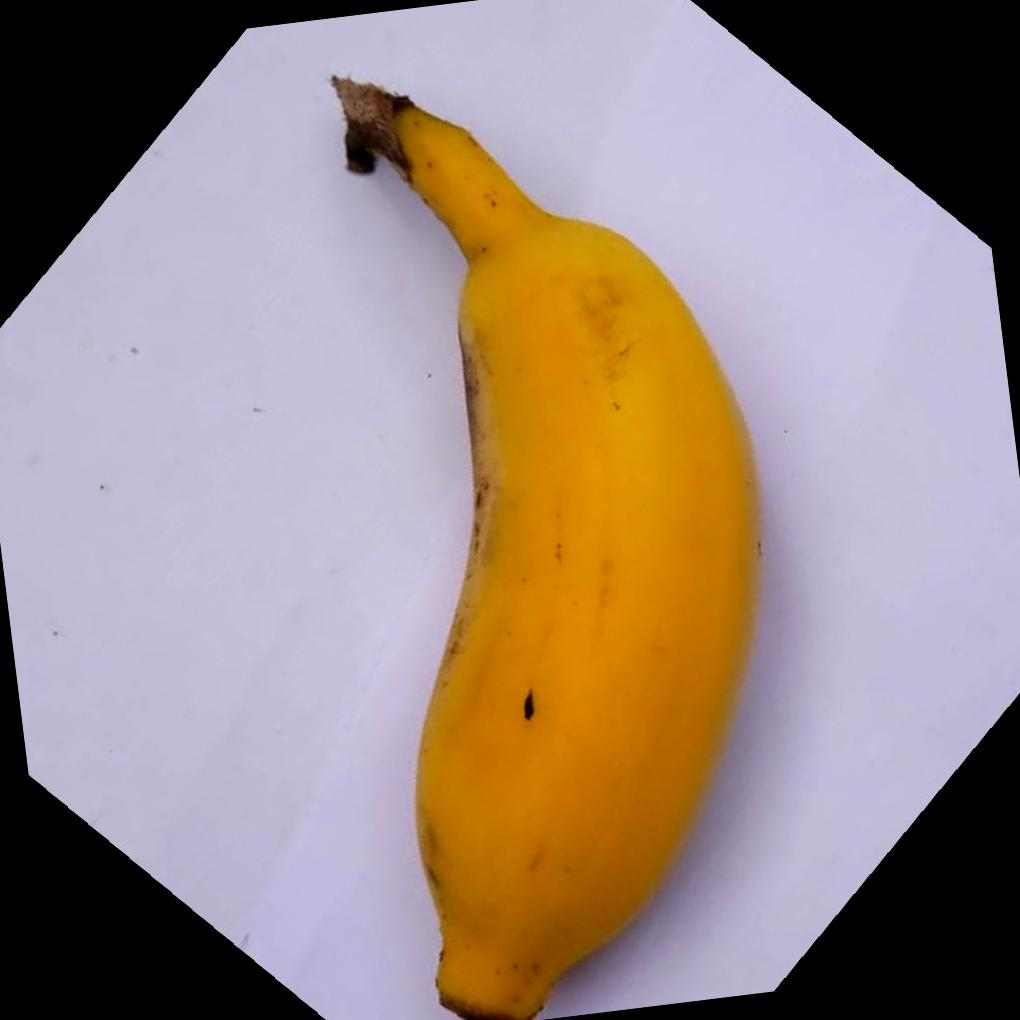Banana Ripe: (309, 29, 831, 1020)
